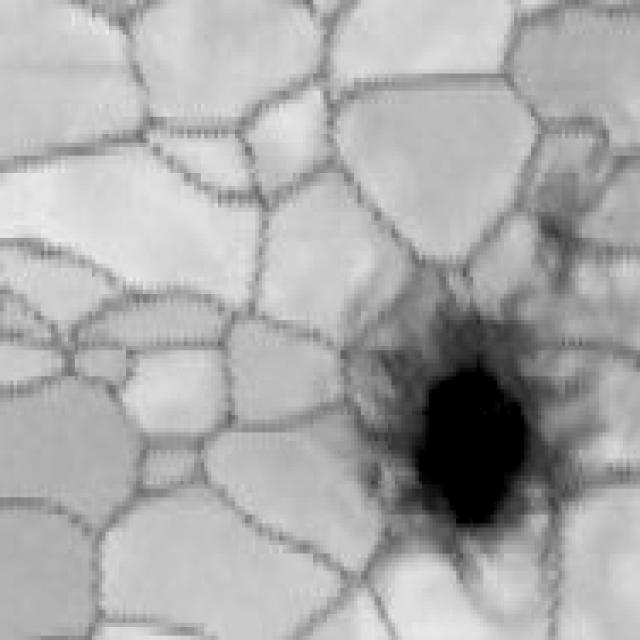good_void: (341, 252, 602, 590), (518, 173, 591, 297)
